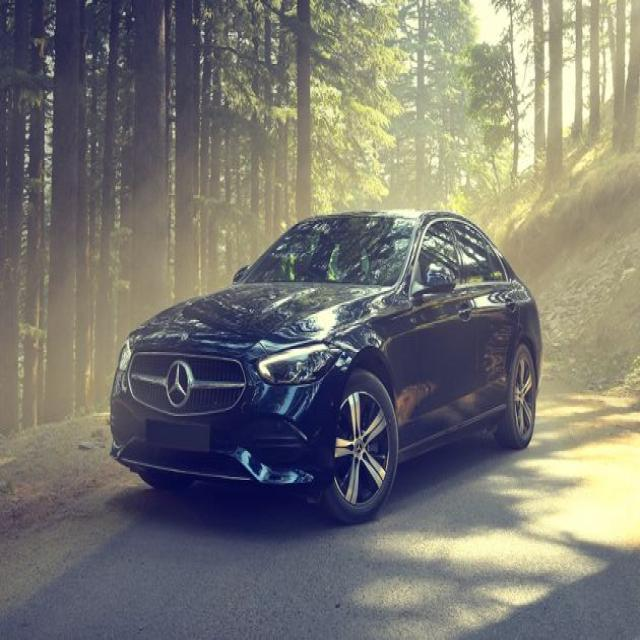car: (123, 210, 537, 482)
